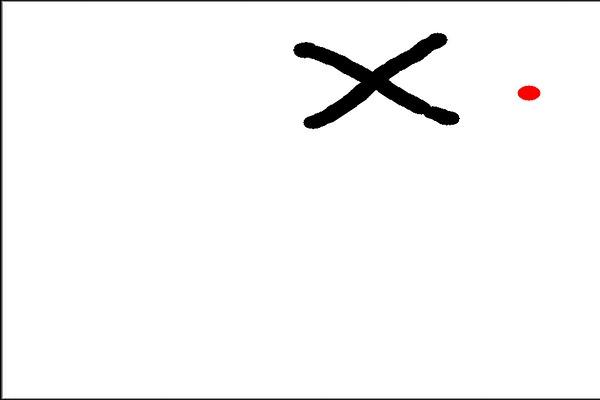X: (261, 25, 463, 157)
